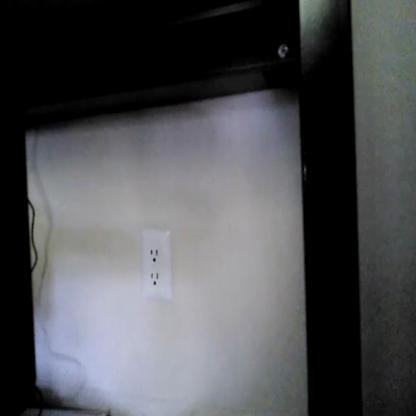OUTLET: (140, 228, 171, 298)
